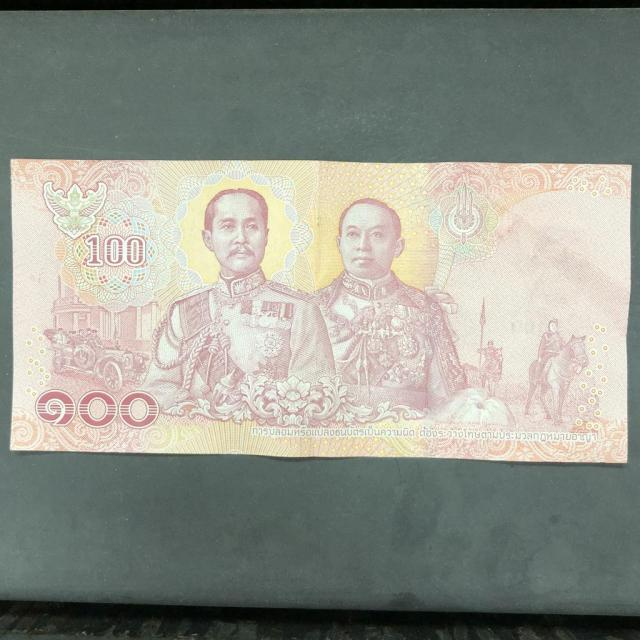THAI100: (6, 159, 632, 467)
